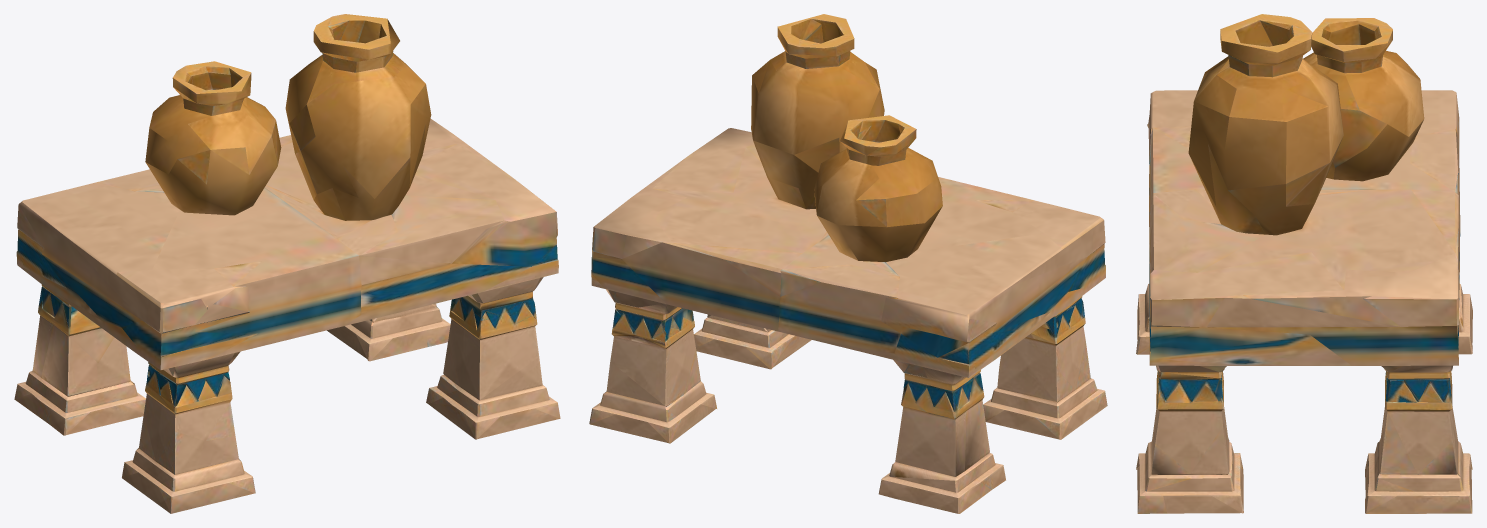
Rendered from palace-table-jars.glb.
The picture shows the model from 3 angles, left to right: view 1: azimuth 30°, elevation 25°; view 2: azimuth 150°, elevation 25°; view 3: azimuth 270°, elevation 25°; orthographic projection. The views are drawn at different scales.
Bounding box in the file's own units: 1.9 × 1.72 × 1.3.
1 material, 1 textured.
